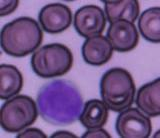L: (36, 78, 84, 126)
